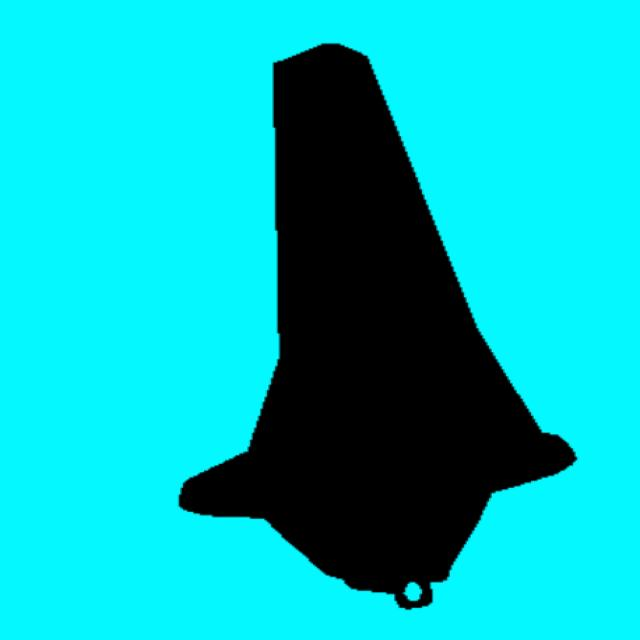BlackBuoy: (180, 45, 575, 608)
